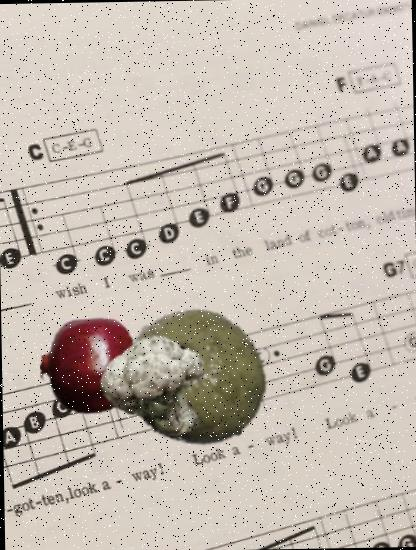Cauliflower: (106, 332, 218, 444)
Guava: (121, 304, 268, 452)
Pomegranate: (38, 316, 140, 417)
